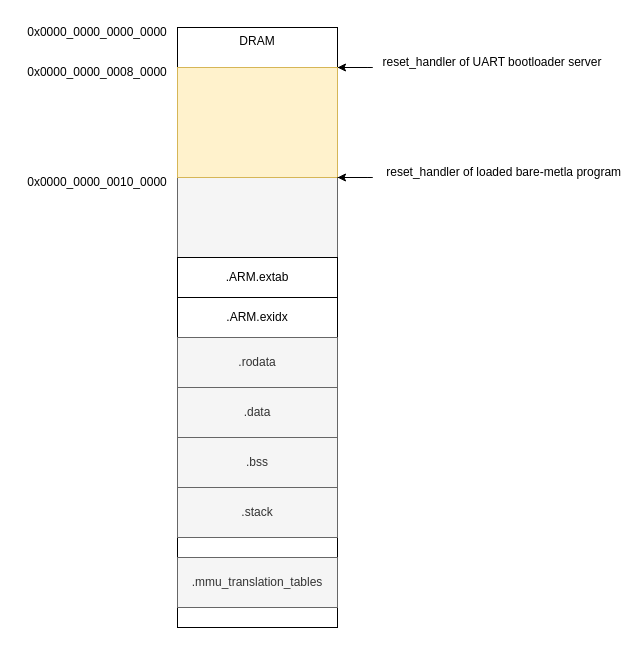
Image size: 644x645. Some labels were removed from this diagram. Each missing label, with the centre of its shape:
".text" belongs at (257,217).
"UART bootloader server image ( text, rodata, data, bss and stack sections)" belongs at (257,122).
